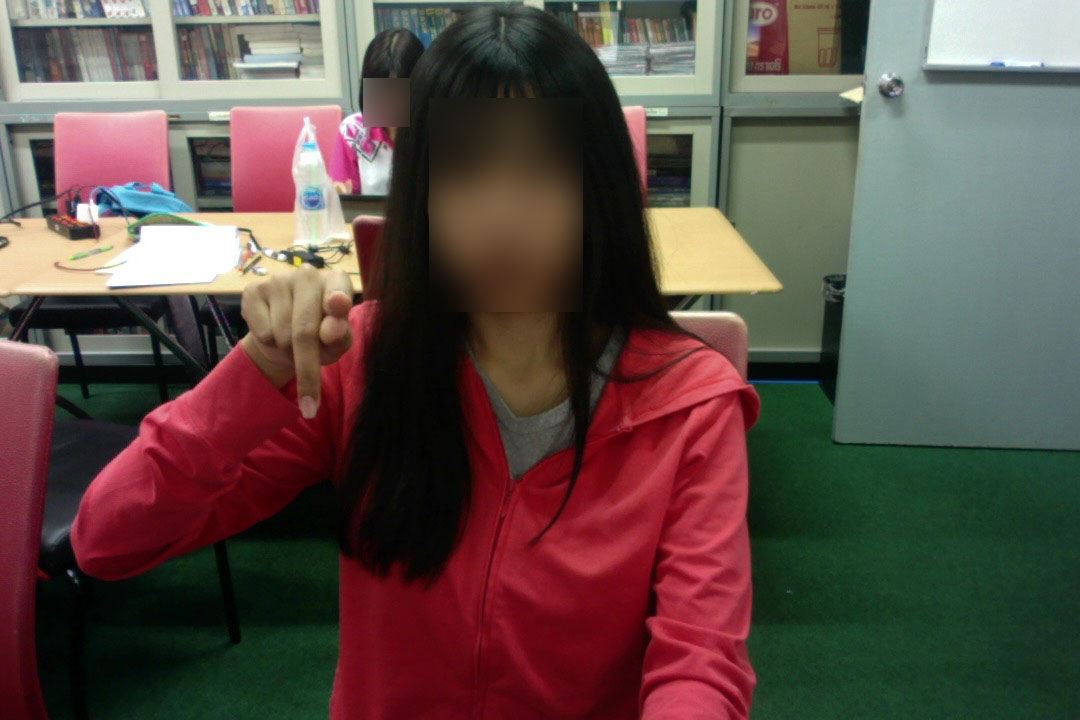por: (235, 267, 359, 423)
